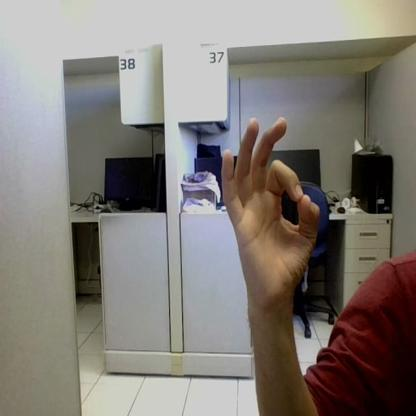F: (222, 117, 320, 303)
